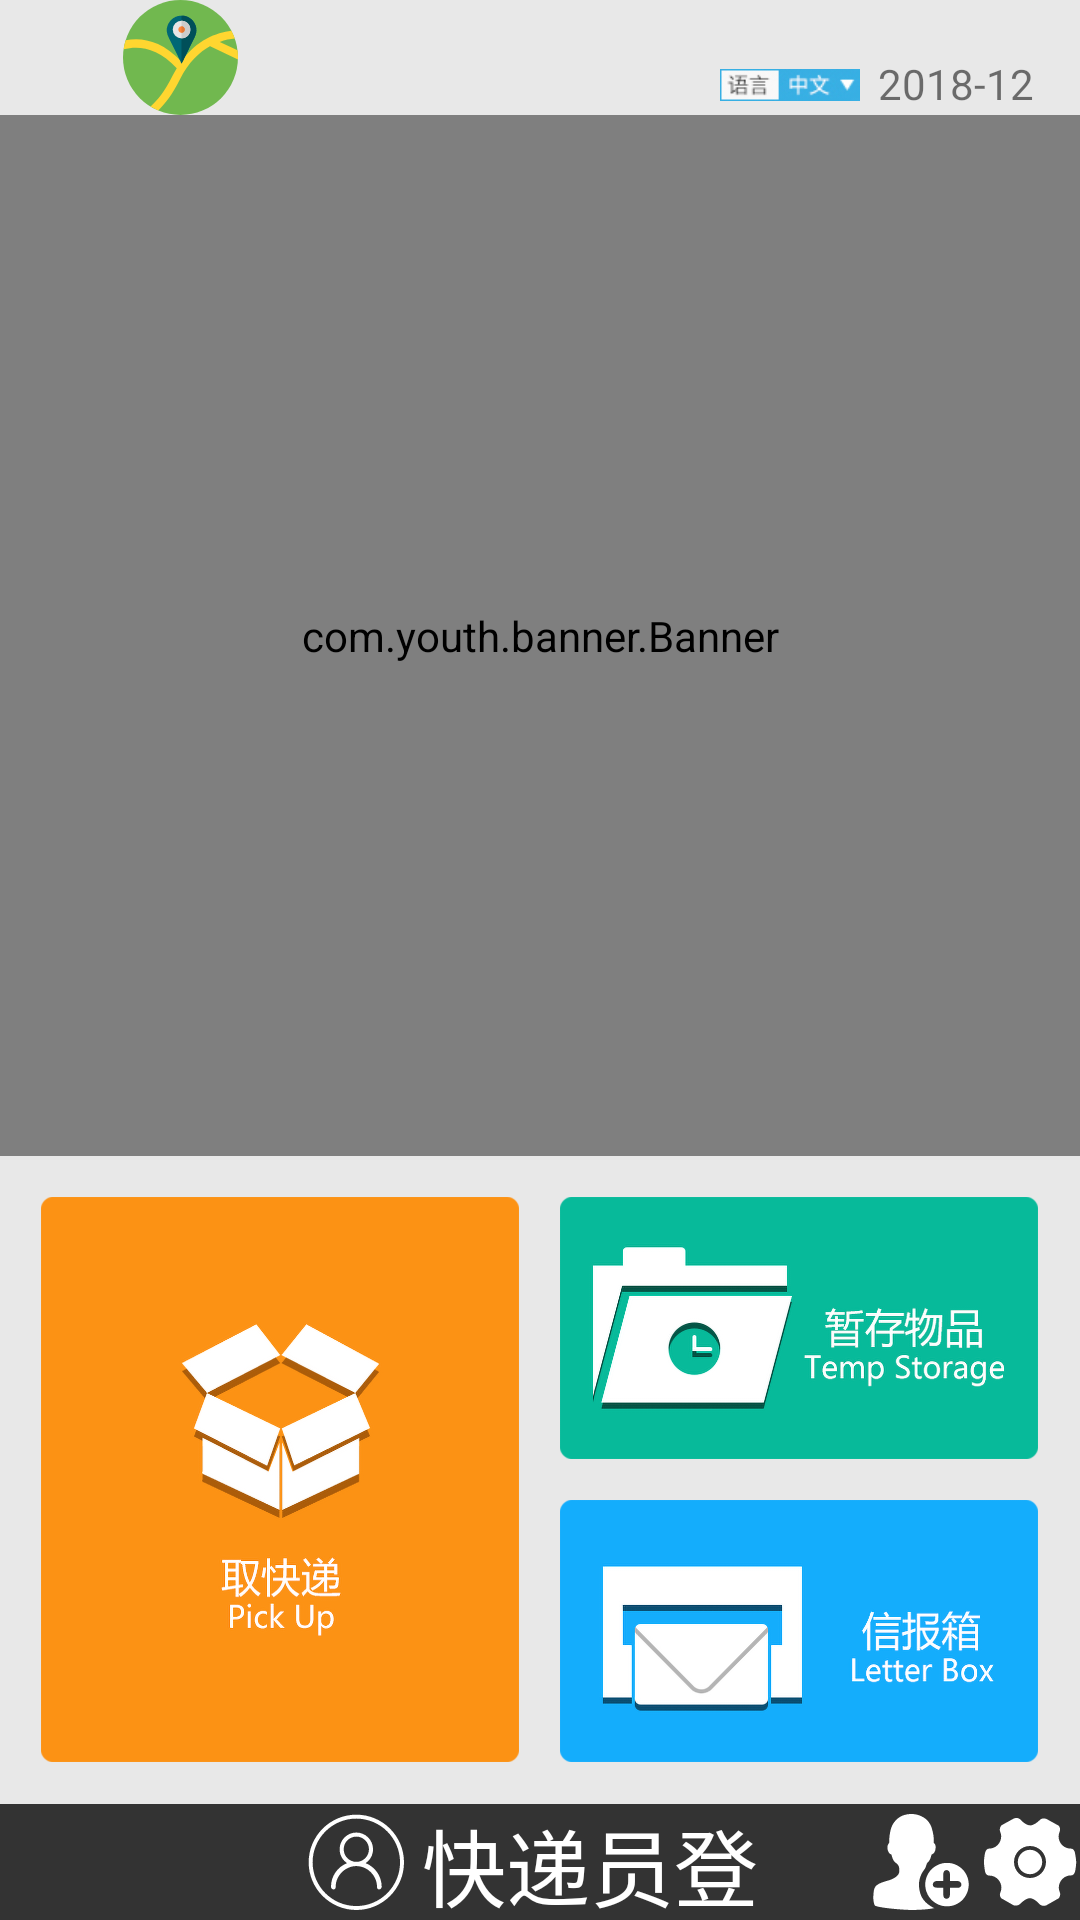

Where icons sit on this 1080 × 1920 app screen, as (x1, y1, x2, y2):
register: (873, 1814, 969, 1910)
set: (984, 1818, 1077, 1906)
user login: (308, 1814, 404, 1910)
